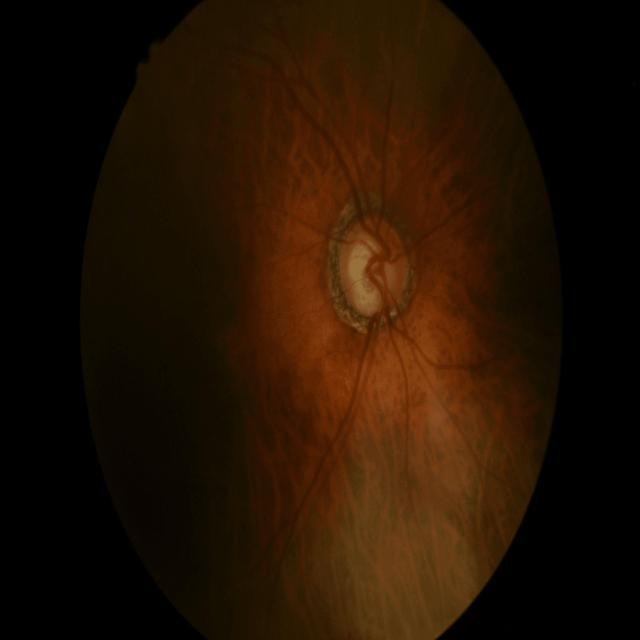cup: (347, 234, 393, 312)
disk: (337, 212, 413, 324)
